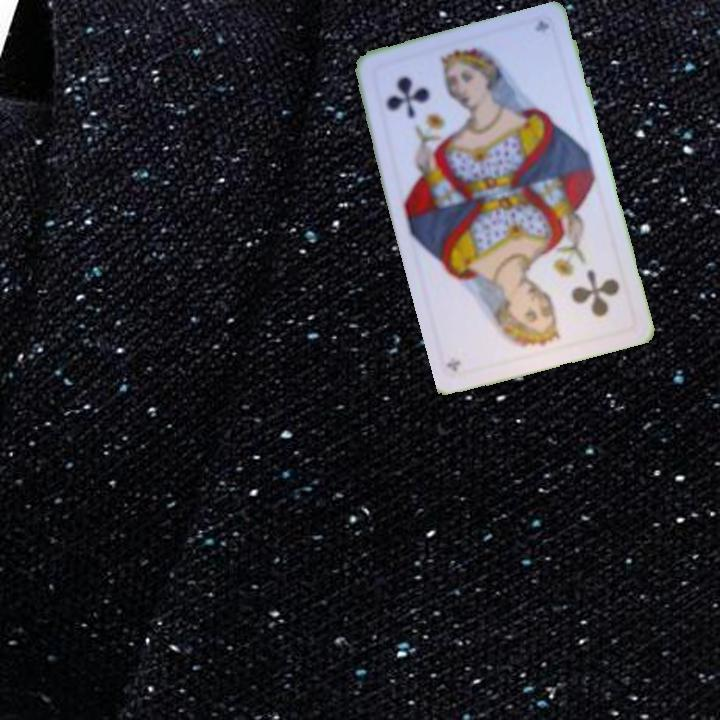c_q.png: (519, 246, 637, 354), (367, 43, 485, 150)
